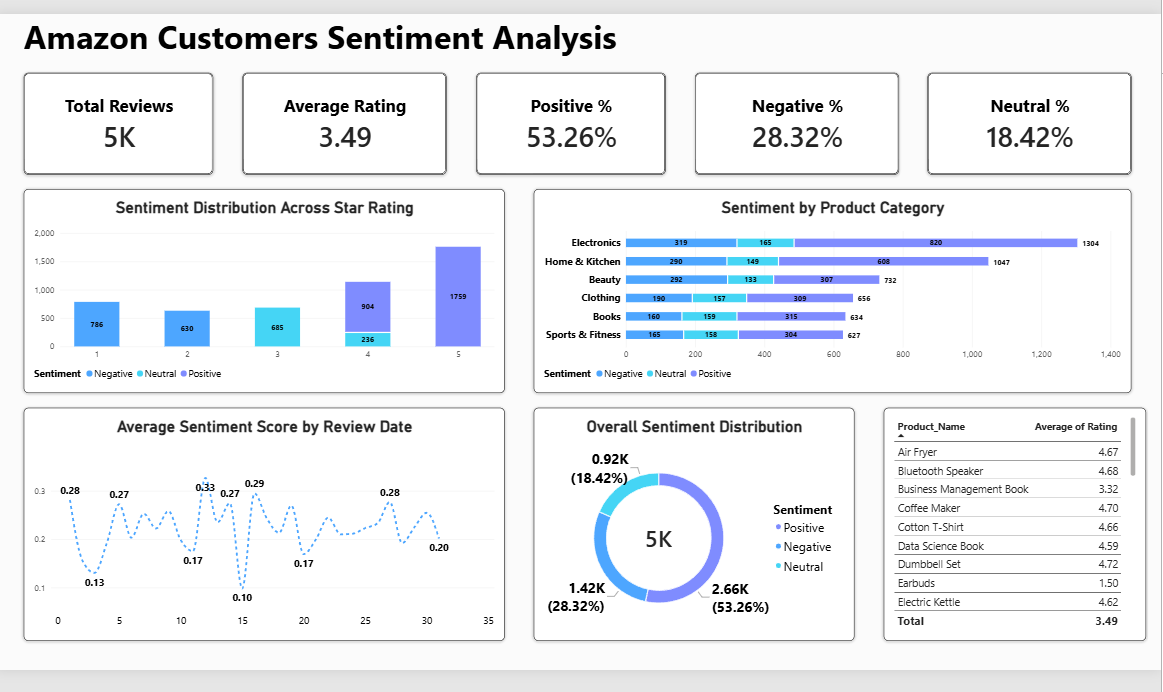

What the dashboard file says about the page in this screenshot:
{"tool":"powerbi","page":{"name":"Page 1","canvas":[1920,1080],"ordinal":0},"visuals":[{"type":"textbox","box":[48,0,1128,72],"z":0},{"type":"cardVisual","fields":{"Data":["Amazon_Reviews.Total Reviews"]},"box":[48,96,312,168],"z":1000},{"type":"cardVisual","fields":{"Data":["Amazon_Reviews.Average Rating"]},"box":[408,96,336,168],"z":2000},{"type":"cardVisual","fields":{"Data":["Amazon_Reviews.Positive %"]},"box":[816,96,312,168],"z":3000},{"type":"cardVisual","fields":{"Data":["Amazon_Reviews.Negative %"]},"box":[1176,96,312,168],"z":4000},{"type":"cardVisual","fields":{"Data":["Amazon_Reviews.Neutral %"]},"box":[1536,96,336,168],"z":5000},{"type":"donutChart","title":"Overall Sentiment Distribution","fields":{"Category":["Amazon_Reviews.Sentiment"],"Y":["CountNonNull(Amazon_Reviews.Review_ID)"]},"box":[888,648,528,384],"z":6000},{"type":"clusteredColumnChart","title":"Sentiment Distribution by Rating","fields":{"Category":["Amazon_Reviews.Rating"],"Y":["CountNonNull(Amazon_Reviews.Review_ID)"],"Series":["Amazon_Reviews.Sentiment"]},"box":[48,288,792,336],"z":7000},{"type":"lineChart","title":"Average Sentiment Score Trend Over Time","fields":{"Y":["Avg(Amazon_Reviews.Sentiment_Score)"],"Category":["Amazon_Reviews.Review_Date.Variation.Date Hierarchy.Year","Amazon_Reviews.Review_Date.Variation.Date Hierarchy.Month","Amazon_Reviews.Review_Date.Variation.Date Hierarchy.Day"]},"box":[48,648,792,384],"z":8000},{"type":"barChart","title":"Sentiment by Product Category","fields":{"Category":["Amazon_Reviews.Product_Category"],"Y":["CountNonNull(Amazon_Reviews.Review_ID)"],"Series":["Amazon_Reviews.Sentiment"]},"box":[888,288,984,336],"z":9000},{"type":"tableEx","fields":{"Values":["Amazon_Reviews.Product_Name","Avg(Amazon_Reviews.Rating)"]},"box":[1464,648,432,384],"z":10000}]}

Visuals, with their boxes on the page's 1920x1080 design canvas (x1, y1, x2, y2). These are canvas units, not pixel positions in the 1163x692 screenshot, which may show the page scaled, cropped or inside an application window:
textbox: pyautogui.locateOnScreen(48, 0, 1176, 72)
cardVisual - Amazon_Reviews.Total Reviews: pyautogui.locateOnScreen(48, 96, 360, 264)
cardVisual - Amazon_Reviews.Average Rating: pyautogui.locateOnScreen(408, 96, 744, 264)
cardVisual - Amazon_Reviews.Positive %: pyautogui.locateOnScreen(816, 96, 1128, 264)
cardVisual - Amazon_Reviews.Negative %: pyautogui.locateOnScreen(1176, 96, 1488, 264)
cardVisual - Amazon_Reviews.Neutral %: pyautogui.locateOnScreen(1536, 96, 1872, 264)
"Overall Sentiment Distribution" donutChart: pyautogui.locateOnScreen(888, 648, 1416, 1032)
"Sentiment Distribution by Rating" clusteredColumnChart: pyautogui.locateOnScreen(48, 288, 840, 624)
"Average Sentiment Score Trend Over Time" lineChart: pyautogui.locateOnScreen(48, 648, 840, 1032)
"Sentiment by Product Category" barChart: pyautogui.locateOnScreen(888, 288, 1872, 624)
tableEx - Amazon_Reviews.Product_Name x Avg(Amazon_Reviews.Rating): pyautogui.locateOnScreen(1464, 648, 1896, 1032)
